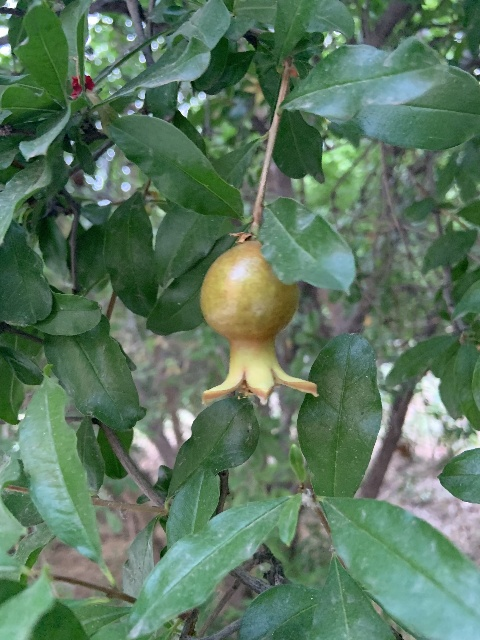early-fruit: (199, 242, 317, 406)
